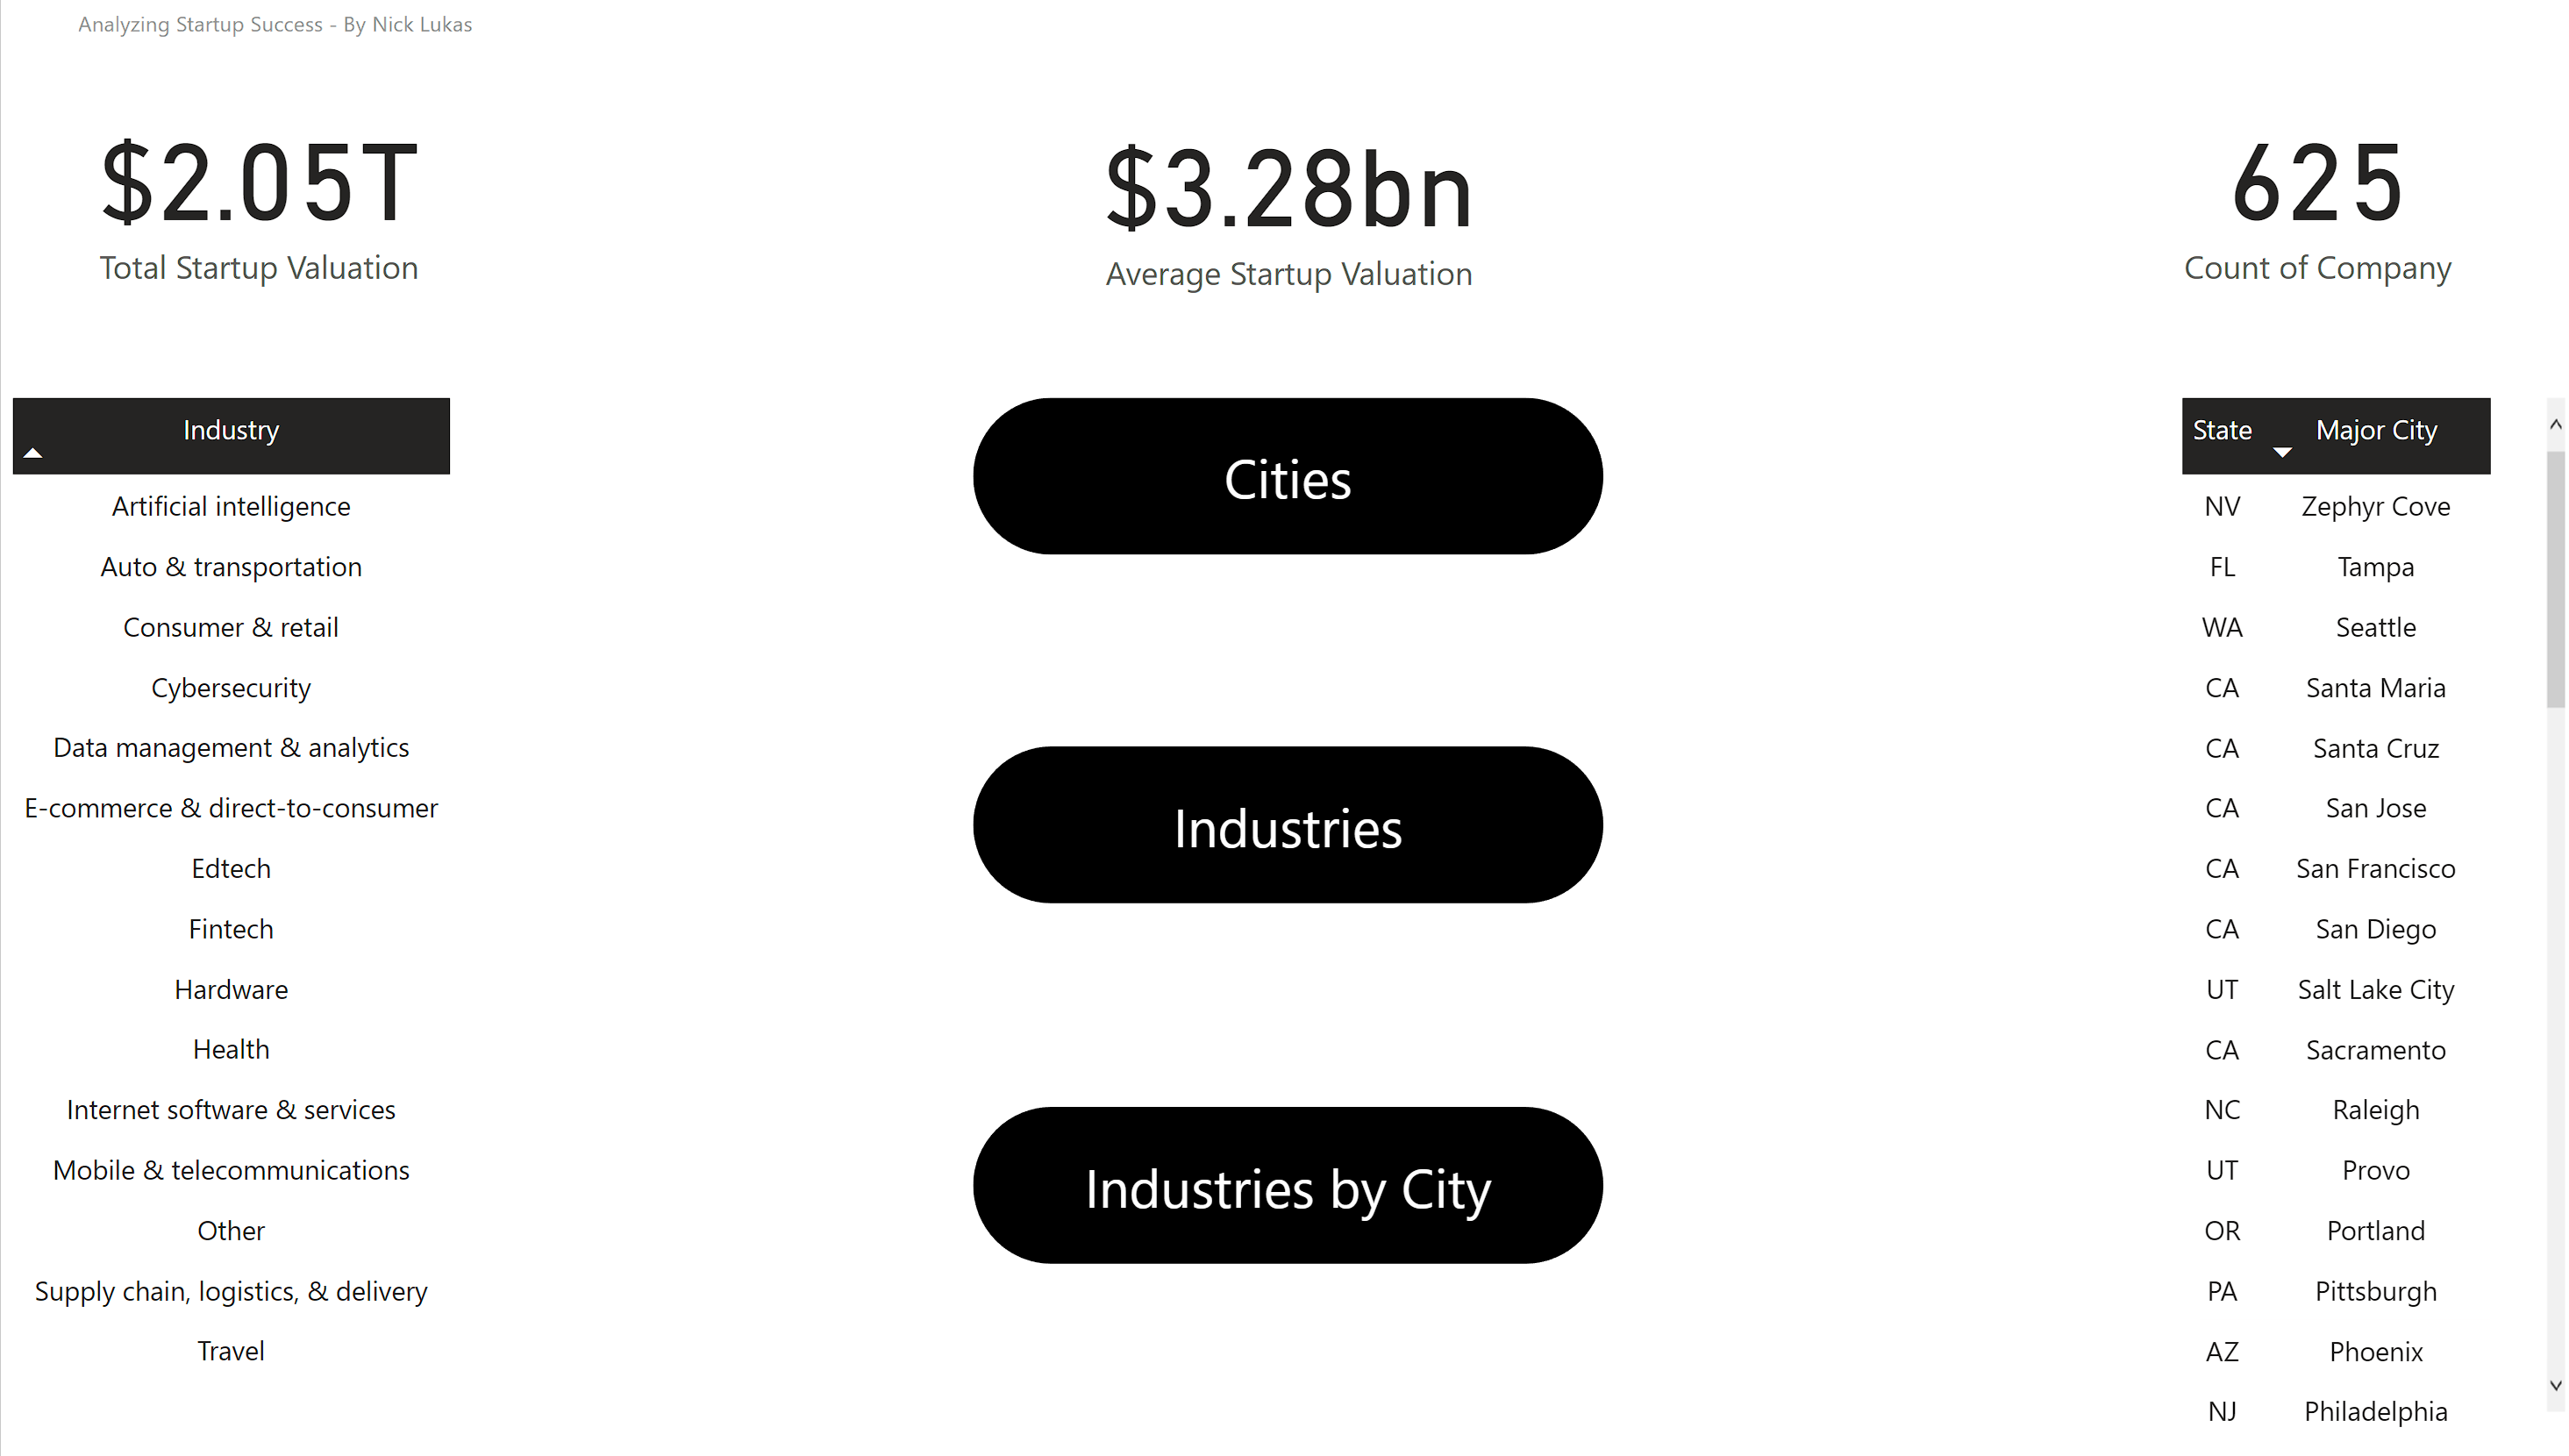

This screenshot's page, from the dashboard's own definition file:
{"tool":"powerbi","page":{"name":"Dashboard","canvas":[1280,720],"ordinal":0},"visuals":[{"type":"card","fields":{"Values":["Count(Startups.Company)"]},"box":[1023.5,0,256.5,197.2],"z":0},{"type":"card","fields":{"Values":["Startups.Actual Valuation"]},"box":[0,0,256.5,197.2],"z":1000},{"type":"actionButton","box":[483.3,202.1,313.3,77.9],"z":2000},{"type":"tableEx","fields":{"Values":["Startups.Industry"]},"box":[0,197.2,256.5,522.8],"z":3000},{"type":"tableEx","fields":{"Values":["Major Cities Lookup.State","Major Cities Lookup.Major City"]},"box":[1078.5,197.2,201.5,522.8],"z":4000},{"type":"card","title":"Average Startup Value","fields":{"Values":["Major Cities Lookup.Actual Average Startup Value"]},"box":[490.7,0,299.7,202.1],"z":5000},{"type":"actionButton","box":[483.3,375.1,313.3,77.9],"z":6000},{"type":"actionButton","box":[483.3,554.4,313.3,77.9],"z":7000},{"type":"textbox","box":[33.4,0,218.6,28.8],"z":8501}]}

Visuals, with their boxes in screenshot pixels (x1, y1, x2, y2), scaled from the page's 1280x720 canvas onto the 2569x1456 screenshot:
card - Count(Startups.Company): [2054, 0, 2568, 399]
card - Startups.Actual Valuation: [0, 0, 515, 399]
actionButton: [970, 409, 1599, 567]
tableEx - Startups.Industry: [0, 399, 515, 1455]
tableEx - Major Cities Lookup.State x Major Cities Lookup.Major City: [2165, 399, 2568, 1455]
"Average Startup Value" card: [985, 0, 1587, 409]
actionButton: [970, 759, 1599, 916]
actionButton: [970, 1121, 1599, 1279]
textbox: [67, 0, 506, 58]
